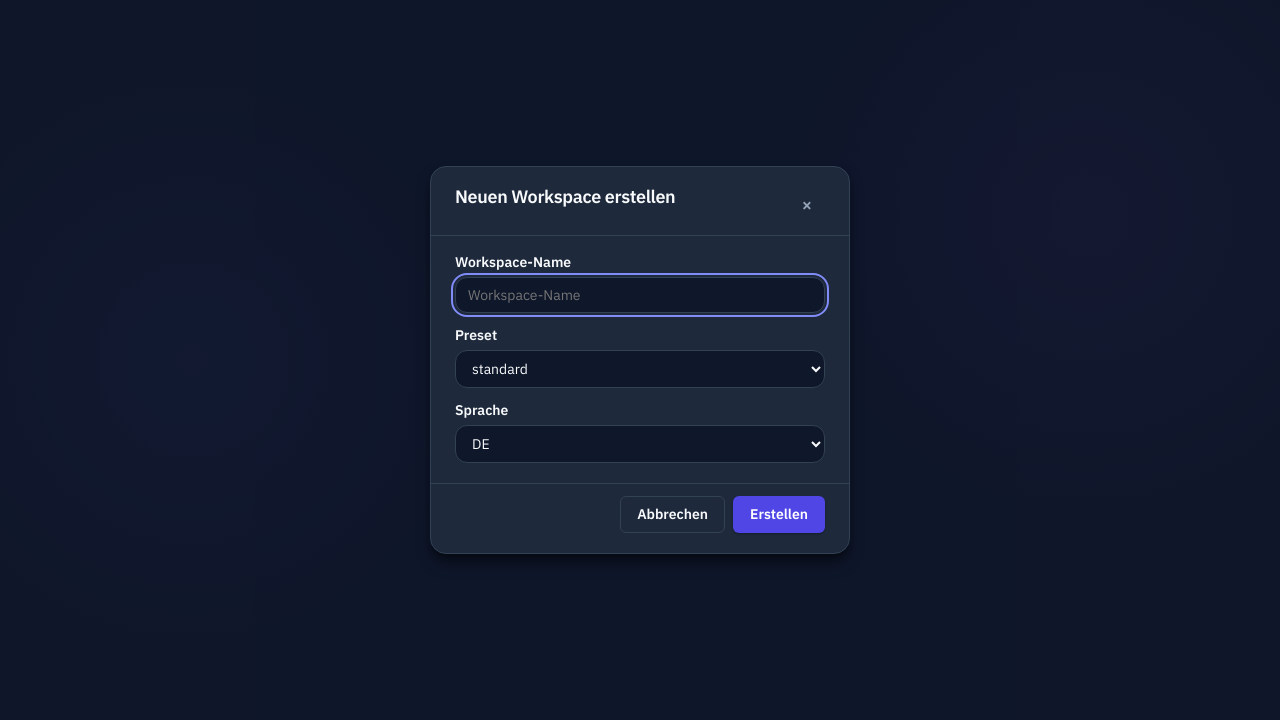
Test: CreateWorkspaceModal — field-level validation error visibility (BUG-08) › clears a stale banner from a previous server-side rejection as soon as the name is edited (F-01)
The width and height of the screenshot is (1280, 720).
Type "Duplicate" into the field with test id "new-workspace-name" at (640, 295), box [455,277,825,313]
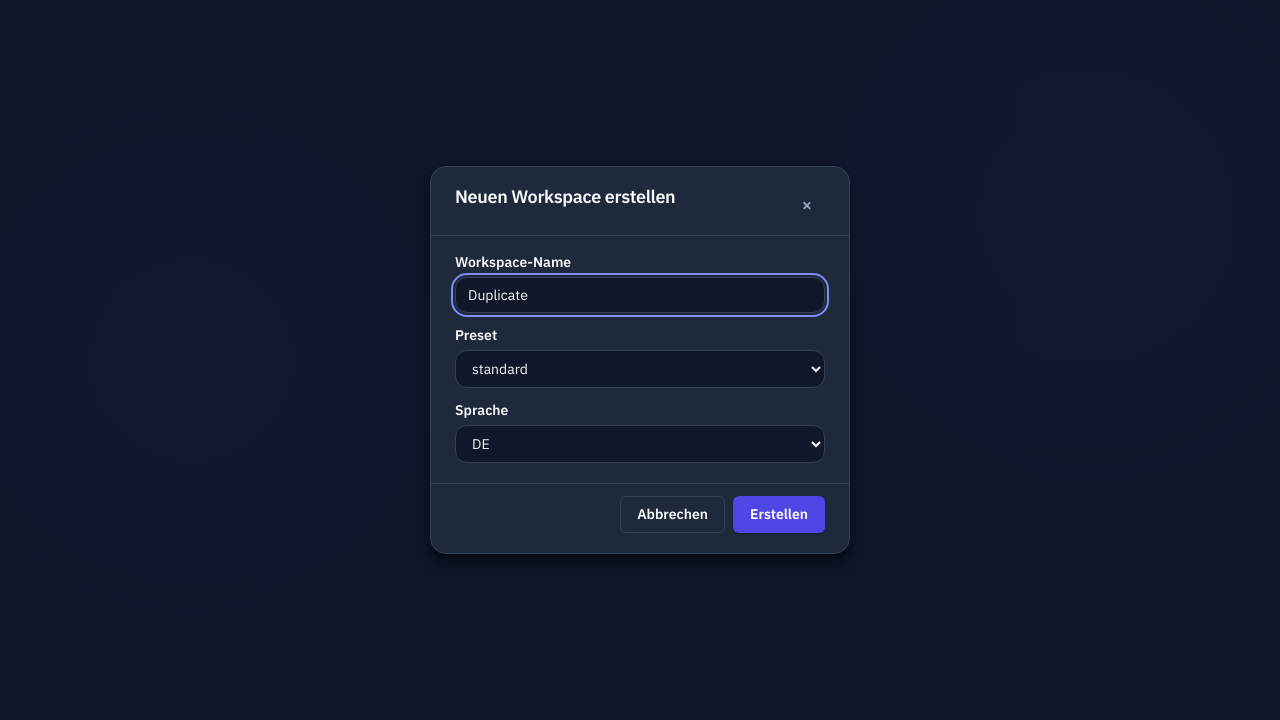
Click the button with test id "new-workspace-submit" at (779, 514), box [733,496,825,533]
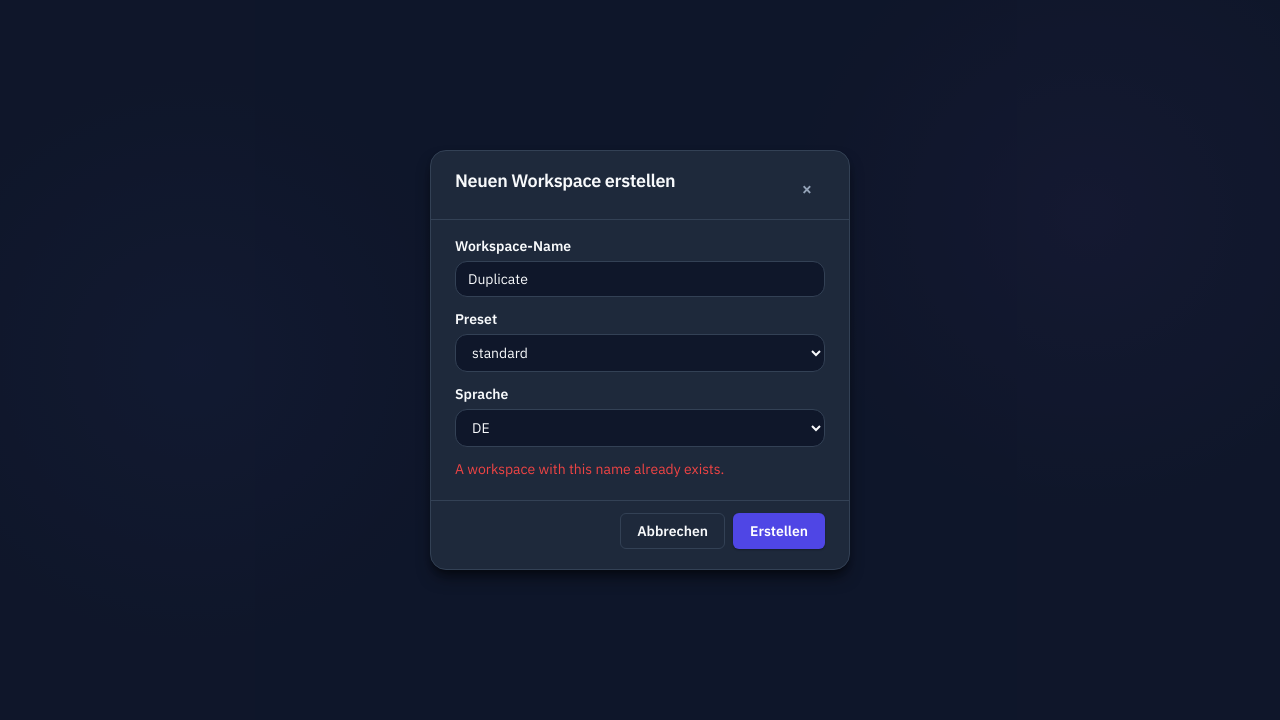
Check: the message with test id "create-workspace-error" reads "A workspace with this name already exists.", box [455,460,724,478]
Type " v2" into the field with test id "new-workspace-name" at (640, 279), box [455,261,825,297]
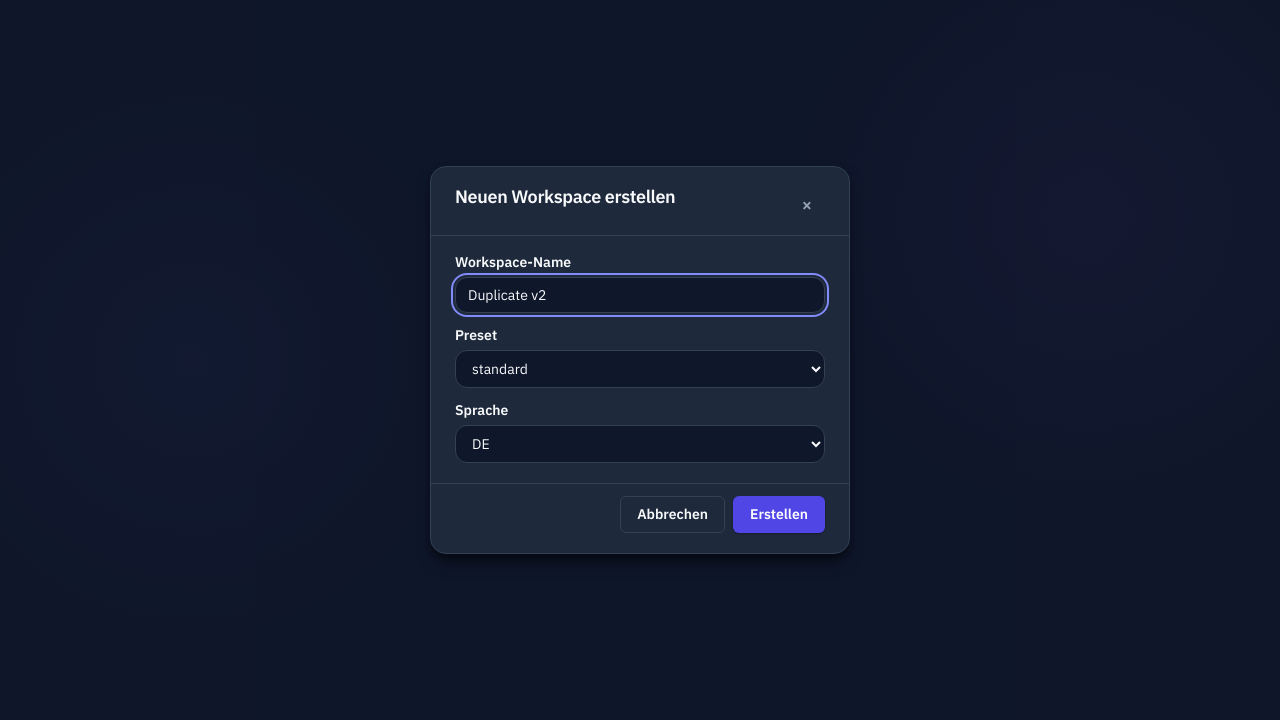
Check: the message with test id "create-workspace-error" is gone
